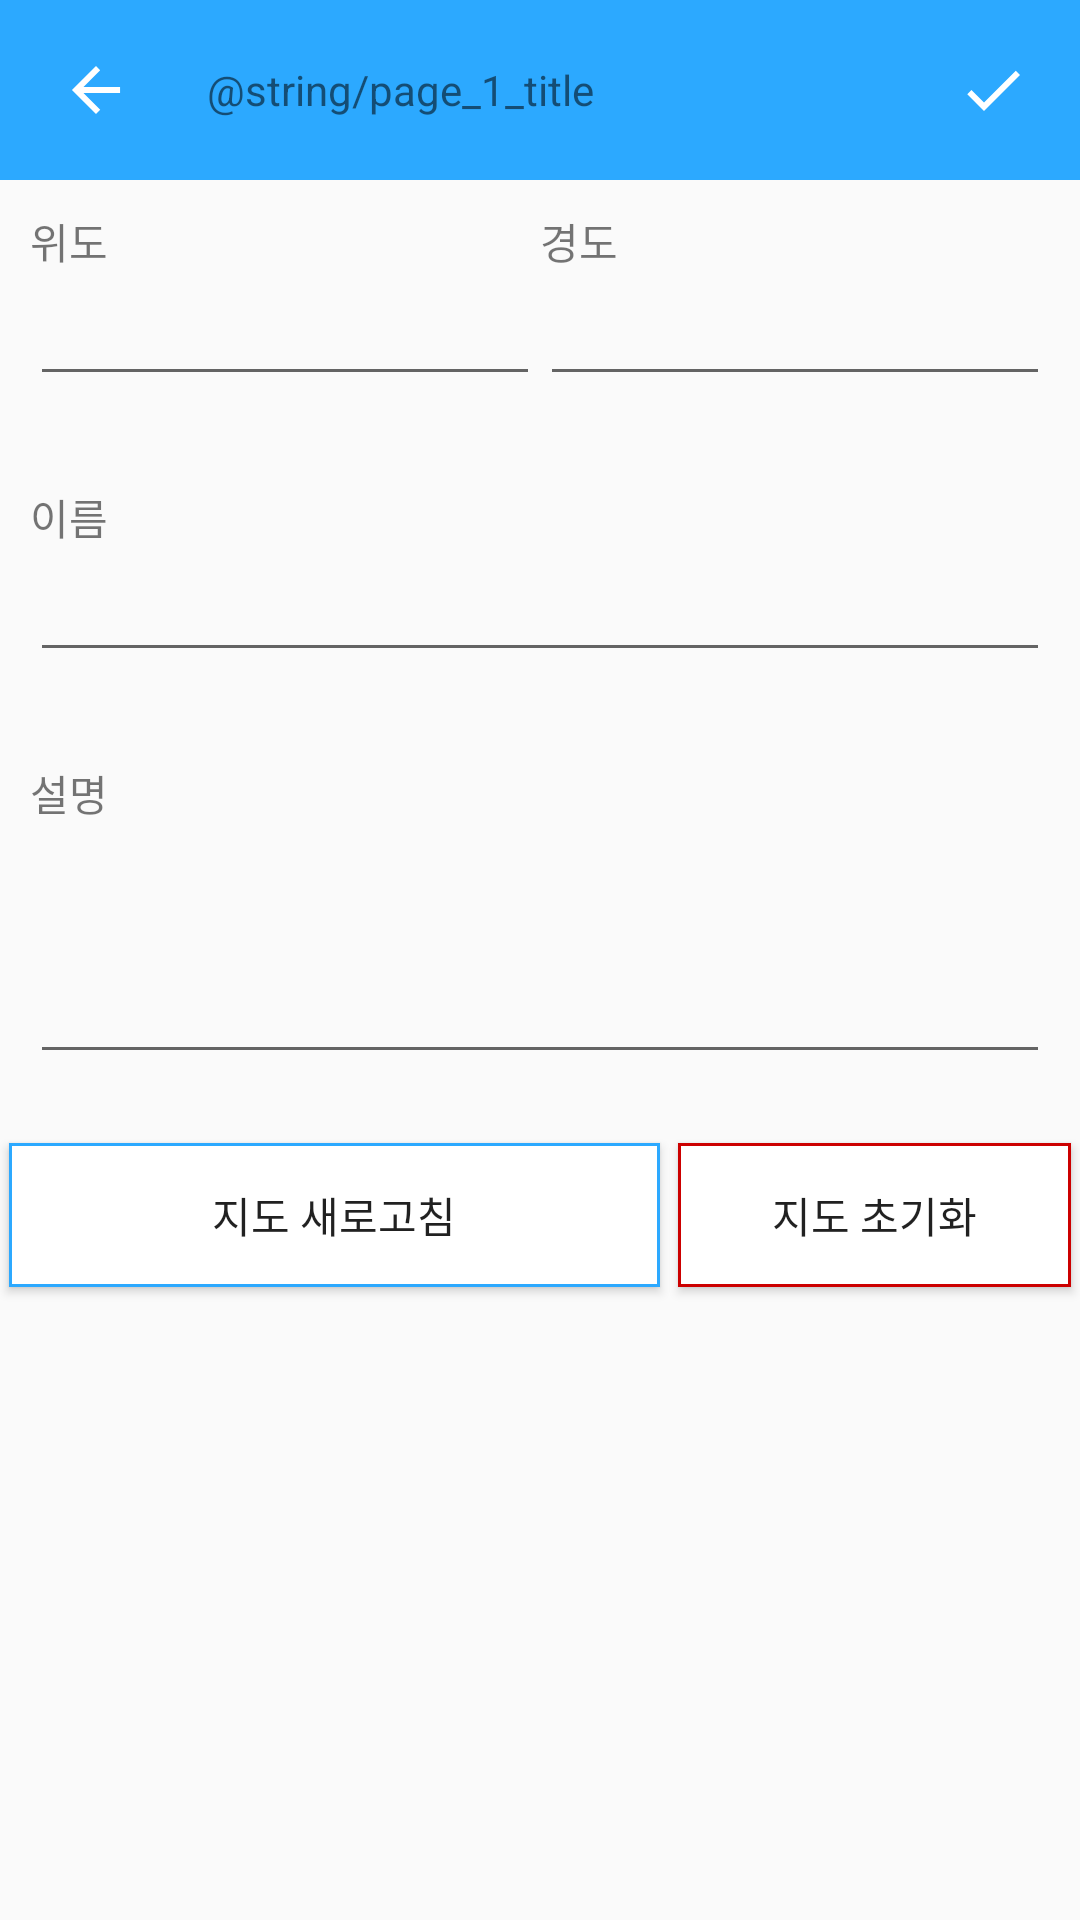

Named icons in this screenshot (1080x1920) and their centers, point (x, y):
arrow back: point (96, 90)
check: point (993, 91)
